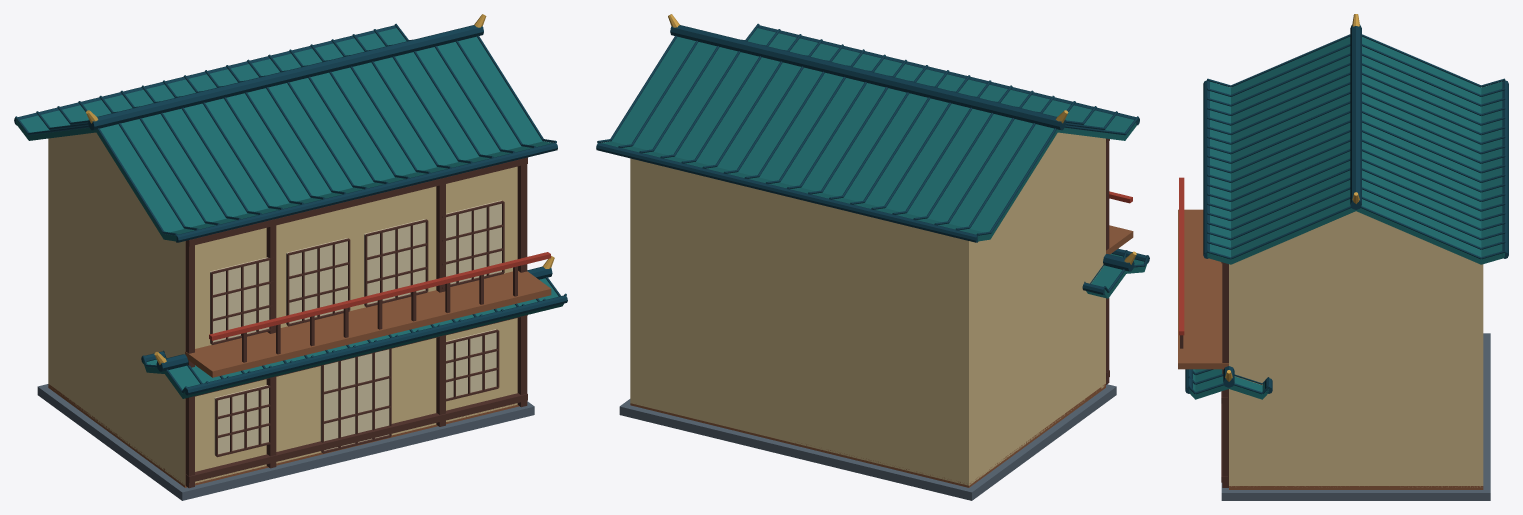
The model's file is inn.glb.
3 views of the same model, side by side, from view 1: azimuth 30°, elevation 25°; view 2: azimuth 150°, elevation 25°; view 3: azimuth 270°, elevation 25° (orthographic). The views are drawn at different scales.
Visible parts, largest first — view 1: inn; view 2: inn; view 3: inn.
Part boxes in pixels (x1,y1,x2,y2): inn: [14, 14, 567, 500]; inn: [596, 14, 1149, 500]; inn: [1178, 14, 1508, 500].
Bounding box in the file's own units: 11.8 × 9.66 × 9.1.
